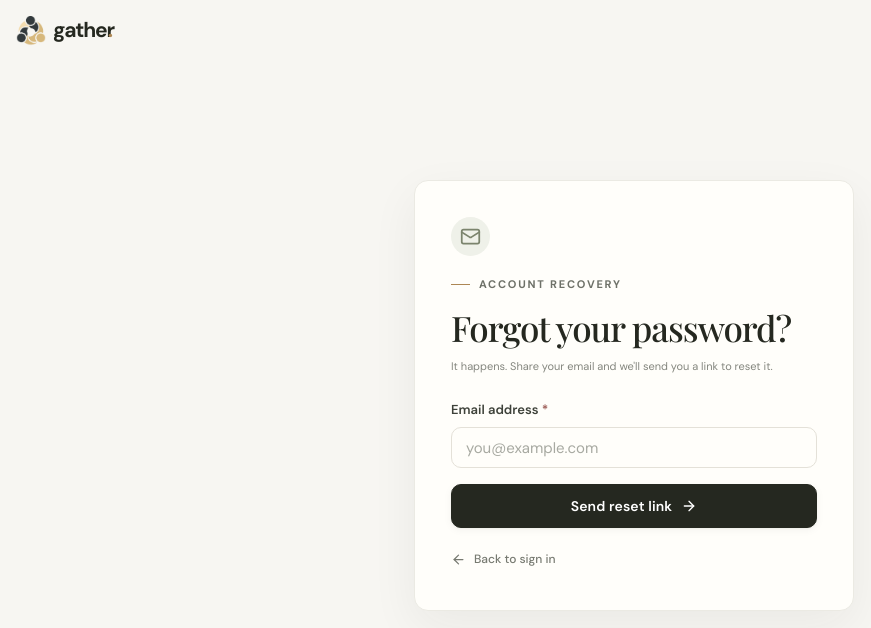
Test: ForgotPasswordPage › submits the email and shows the confirmation state
Type "ada@example.com" into the field labelled "Email address *". click: point(634, 448)
box: left=451, top=427, right=817, bottom=468
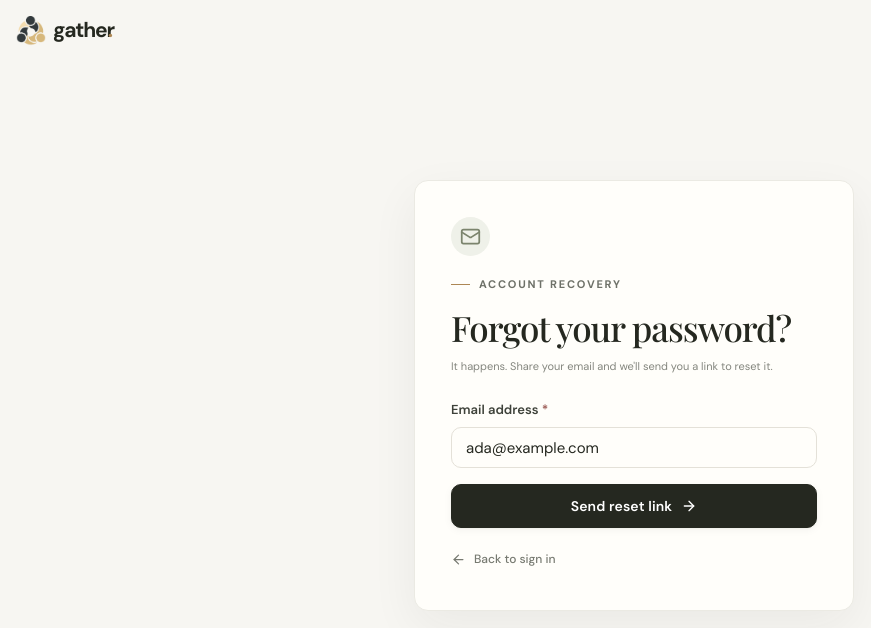
Click the button "Send reset link". click: point(634, 506)
box: left=451, top=484, right=817, bottom=528
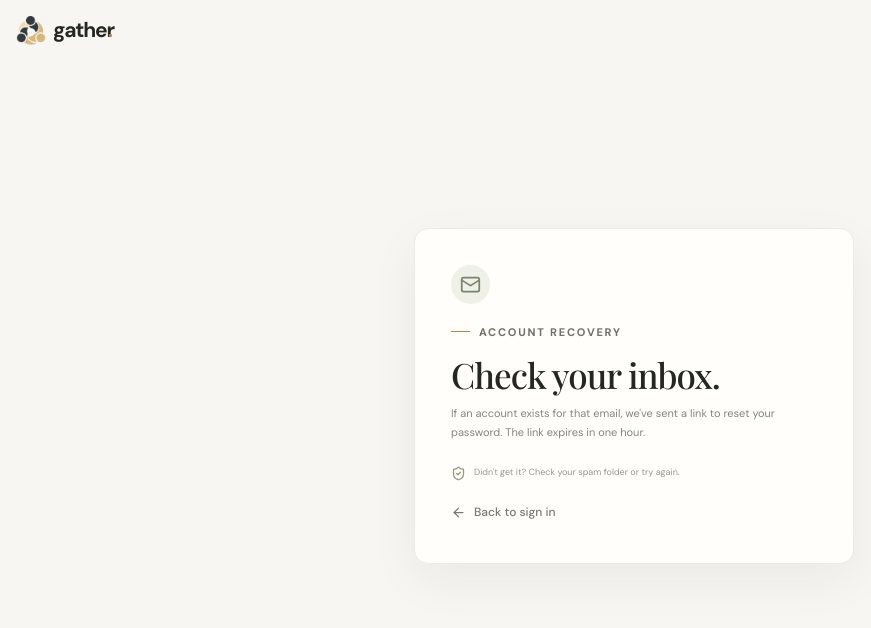
Expected: the heading "Check your inbox." is shown, left=451, top=351, right=720, bottom=398
